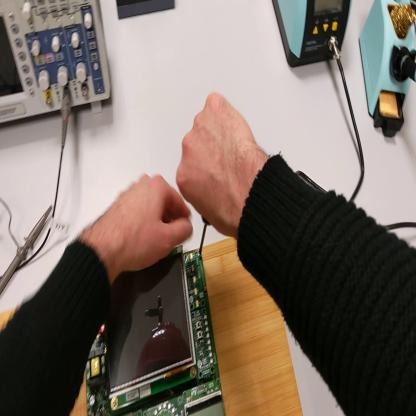hand: (176, 92, 259, 239), (103, 172, 193, 274)
low voltage board: (87, 245, 227, 415)
oscilloscope: (2, 1, 114, 131)
oscilloscope probe tip: (2, 205, 52, 299)
screwdriver-: (200, 216, 211, 253)
welder base: (359, 1, 416, 140)
welder station: (274, 2, 351, 66)
working area: (69, 238, 303, 416)
